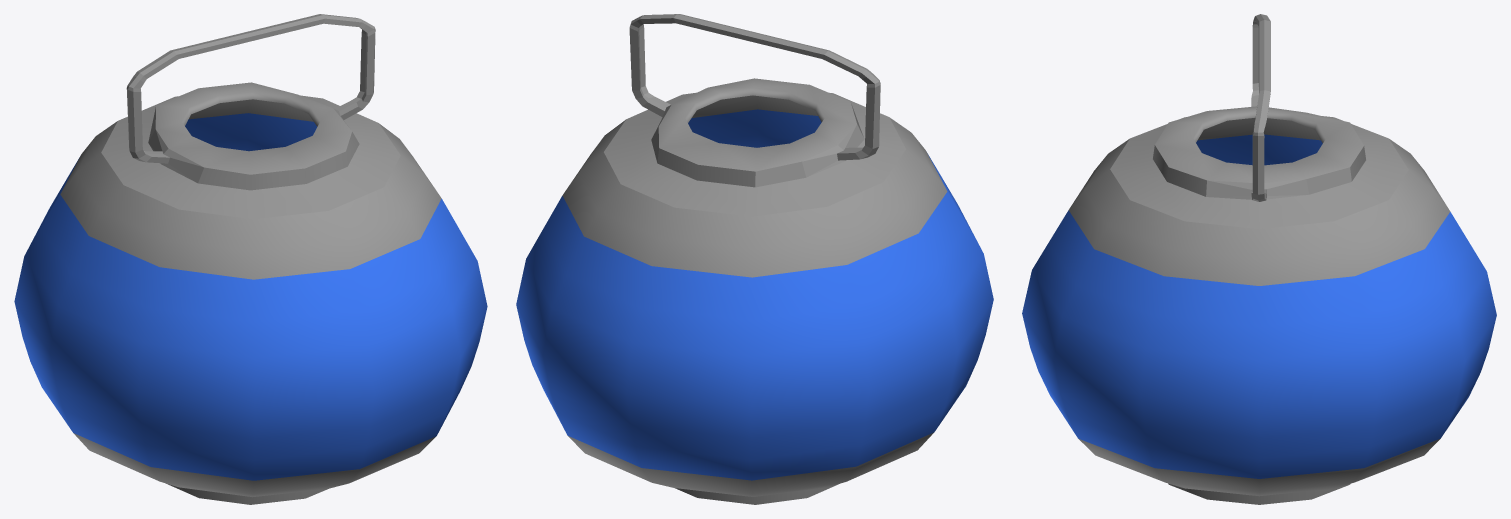
Rendered from Lantern_2 alt.FBX.
3 views of the same model, side by side, from view 1: azimuth 30°, elevation 25°; view 2: azimuth 150°, elevation 25°; view 3: azimuth 270°, elevation 25° (orthographic). The views are drawn at different scales.
Parts seen in each view (by area): view 1: Capsule002; view 2: Capsule002; view 3: Capsule002.
Part boxes in pixels (bbox=[...]): Capsule002: bbox=[14, 14, 487, 504]; Capsule002: bbox=[516, 14, 993, 504]; Capsule002: bbox=[1022, 14, 1496, 504].
Size of the model in its own units: 57.79 by 59.16 by 61.47.
